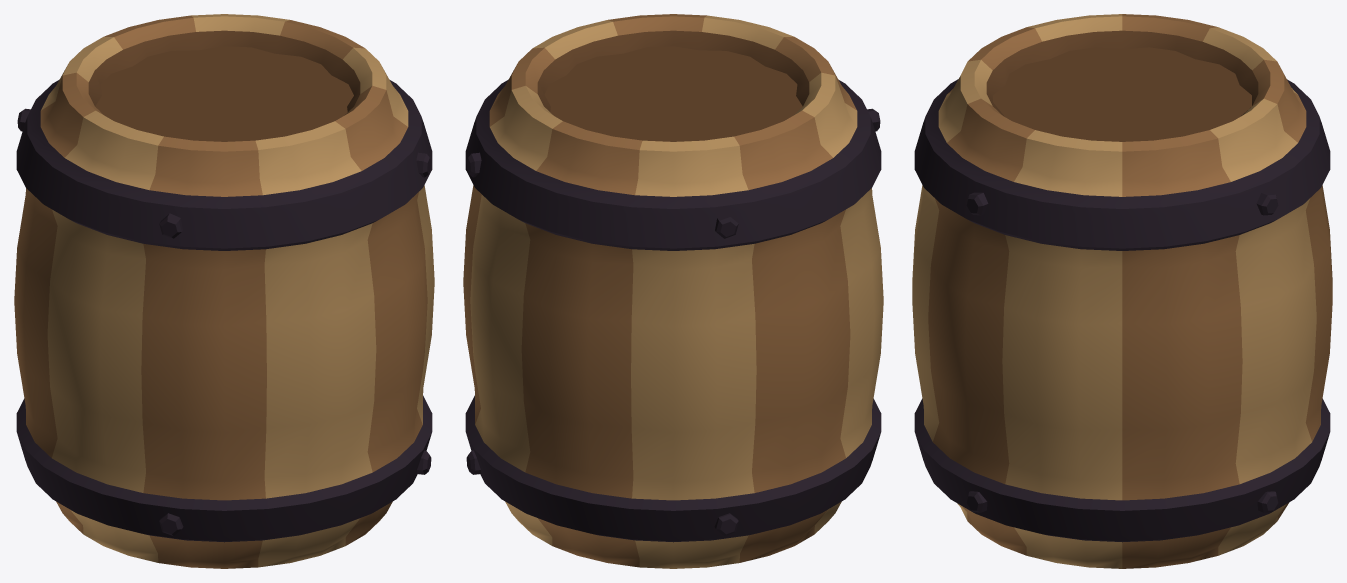
File: Barrel_17.glb
The picture shows the model from 3 angles, left to right: view 1: azimuth 30°, elevation 25°; view 2: azimuth 150°, elevation 25°; view 3: azimuth 270°, elevation 25°; orthographic projection.
Visible parts, largest first — view 1: Barrel_17; view 2: Barrel_17; view 3: Barrel_17.
Boxes of the visible parts, <box> form: Barrel_17: <box>14,14,434,568</box>; Barrel_17: <box>463,14,883,568</box>; Barrel_17: <box>912,14,1332,568</box>.
Size of the model in its own units: 2.06 by 2.31 by 2.07.
